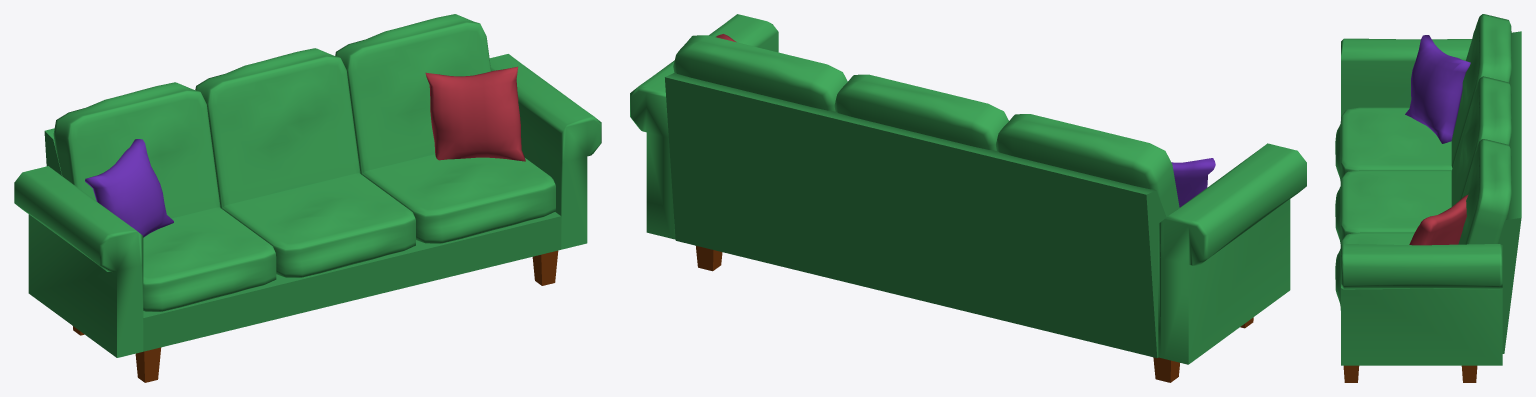
Rendered from geo_3SeaterCouch.fbx.
3 views of the same model, side by side, from view 1: azimuth 30°, elevation 25°; view 2: azimuth 150°, elevation 25°; view 3: azimuth 270°, elevation 25° (orthographic). The views are drawn at different scales.
Parts seen in each view (by area): view 1: pCube49, pCube1, pCube36, pCube47, pCube48, pCube46, pCube35, pCube38, pCube37; view 2: pCube7, pCube49, pCube36, pCube35, pCube37, pCube1; view 3: pCube35, pCube49, pCube47, pCube46, pCube36, pCube37, pCube7, pCube38, pCube48, pCube1.
Boxes of the visible parts, x1,y1,x2,y2 form: pCube49: [53, 14, 491, 218]; pCube1: [73, 212, 561, 382]; pCube36: [14, 166, 143, 357]; pCube47: [221, 173, 415, 277]; pCube48: [361, 154, 555, 243]; pCube46: [143, 207, 276, 311]; pCube35: [489, 54, 601, 249]; pCube38: [425, 66, 525, 161]; pCube37: [85, 139, 173, 237]; pCube7: [665, 72, 1166, 357]; pCube49: [673, 35, 1179, 216]; pCube36: [1158, 143, 1306, 364]; pCube35: [630, 14, 778, 239]; pCube37: [1171, 158, 1215, 207]; pCube1: [696, 246, 1253, 382]; pCube35: [1341, 244, 1502, 365]; pCube49: [1451, 14, 1511, 244]; pCube47: [1335, 170, 1451, 245]; pCube46: [1335, 107, 1452, 183]; pCube36: [1341, 38, 1471, 116]; pCube37: [1405, 35, 1470, 143]; pCube7: [1498, 31, 1521, 353]; pCube38: [1409, 194, 1468, 245]; pCube48: [1335, 232, 1414, 310]; pCube1: [1343, 365, 1477, 382].
Bounding box in the file's own units: 245 × 97.31 × 85.85.
Materials: 1 (1 with a texture image).
